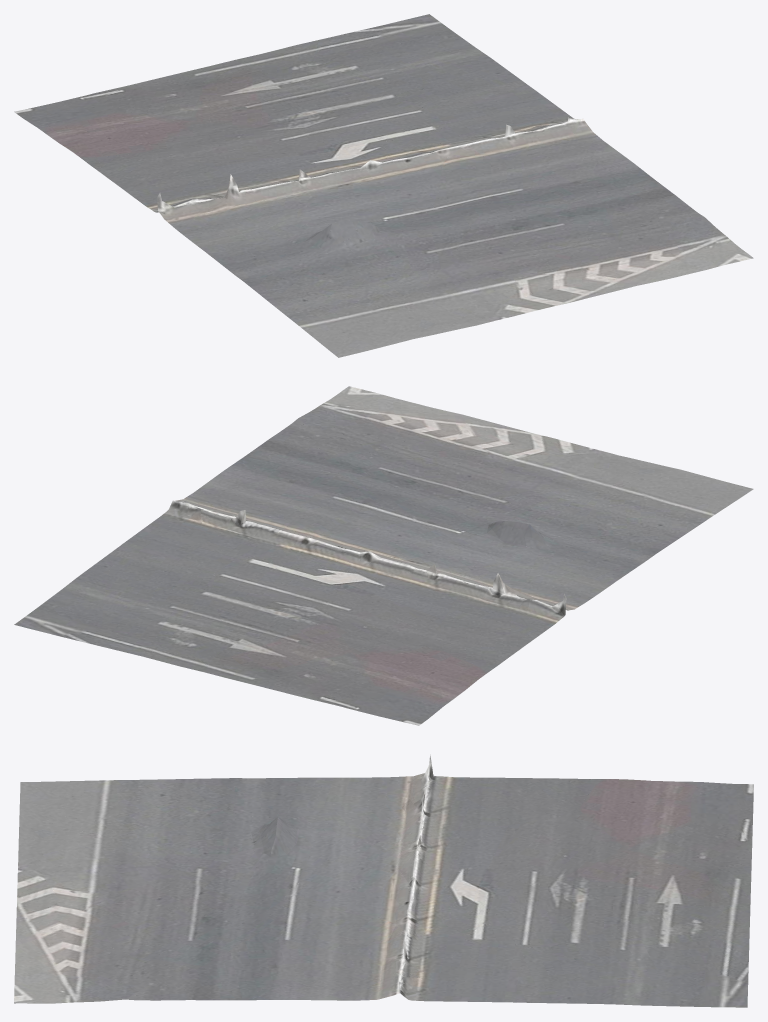
Rendered from Tile_+005_+012_L20_0uuuu21.glb.
The picture shows the model from 3 angles, top to bottom: view 1: azimuth 30°, elevation 25°; view 2: azimuth 150°, elevation 25°; view 3: azimuth 270°, elevation 25°; orthographic projection. The views are drawn at different scales.
Parts seen in each view (by area): view 1: rtc; view 2: rtc; view 3: rtc.
Boxes of the visible parts, x1,y1,x2,y2 form: rtc: (14,14,753,357); rtc: (14,386,753,725); rtc: (14,754,753,1007).
Bounding box in the file's own units: 19.28 × 1.4 × 26.63.
Materials: 1 (1 with a texture image).
